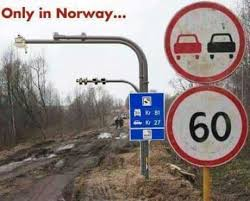Speed_limit_60km: (166, 87, 248, 167)
